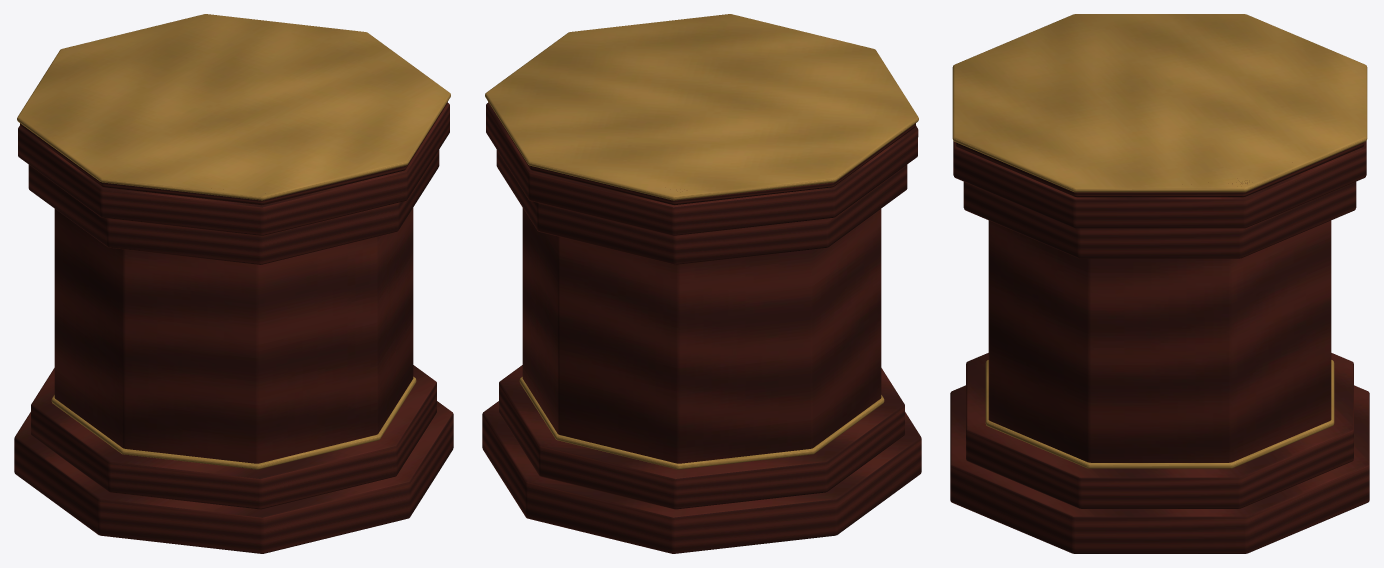
File: hologram_pedestal.glb
3 views of the same model, side by side, from view 1: azimuth 30°, elevation 25°; view 2: azimuth 150°, elevation 25°; view 3: azimuth 270°, elevation 25° (orthographic). The views are drawn at different scales.
Parts seen in each view (by area): view 1: Imperial_Hologram_Pedestal_Master; view 2: Imperial_Hologram_Pedestal_Master; view 3: Imperial_Hologram_Pedestal_Master.
Boxes of the visible parts, x1,y1,x2,y2 form: Imperial_Hologram_Pedestal_Master: (14,14,453,553); Imperial_Hologram_Pedestal_Master: (482,14,921,553); Imperial_Hologram_Pedestal_Master: (950,14,1369,553).
Bounding box in the file's own units: 0.9387 × 0.902 × 0.9387.
2 materials, 2 textured.
